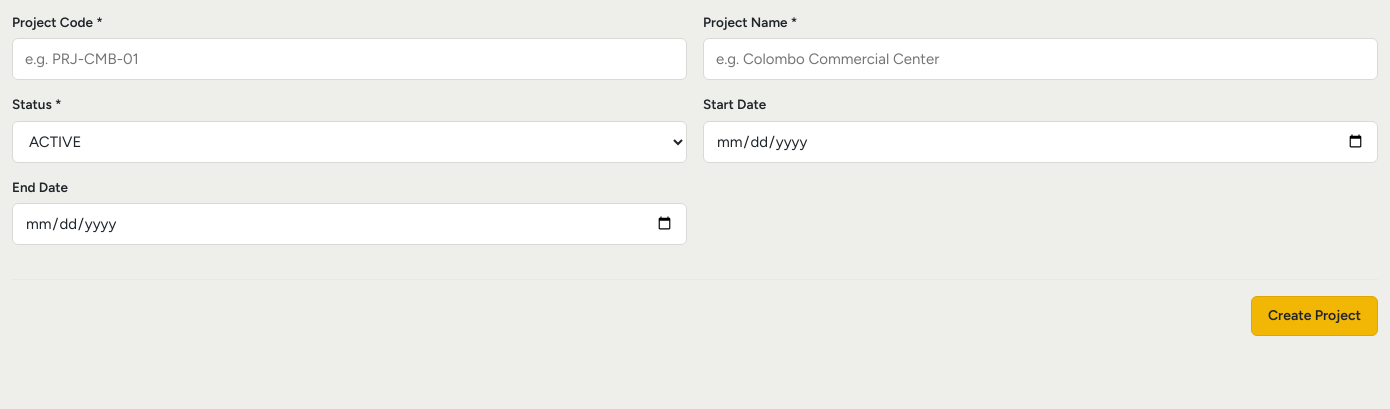
Test: ProjectForm (AESCS-44) › successfully creates a valid project through the API
The width and height of the screenshot is (1390, 409).
Type "PRJ-NEW-01" into the field labelled "Project Code *". click: (350, 59)
box: [12,38,687,80]
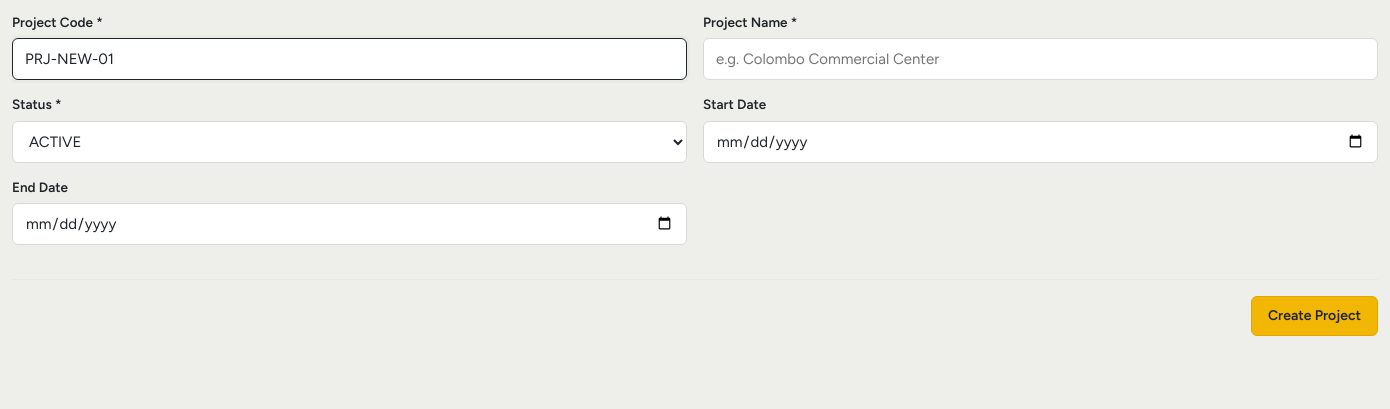
Type "New Harbor Facility" into the field labelled "Project Name *". click: (1040, 59)
box: [703,38,1378,80]
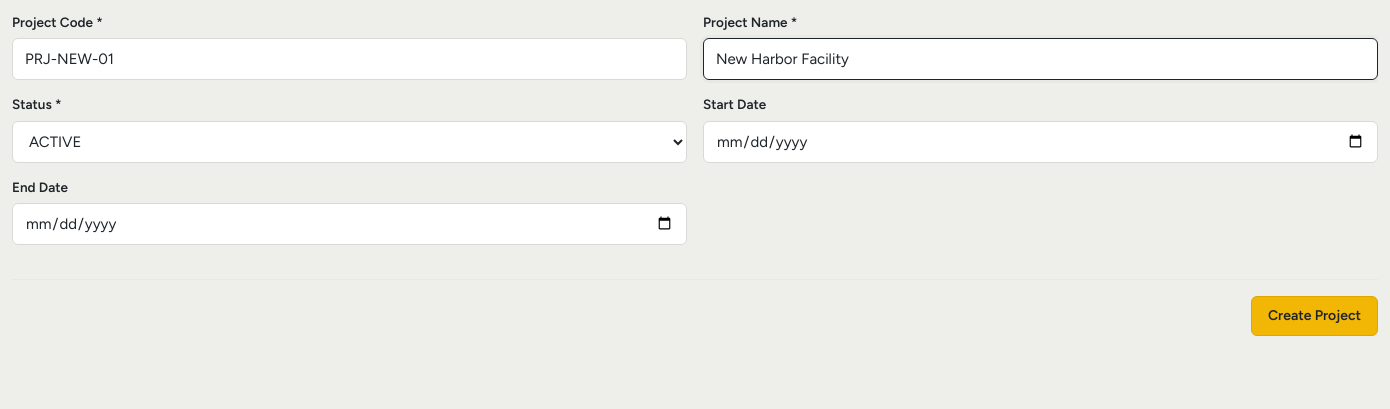
Type "2026-02-01" into the date field labelled "Start Date". click: (1040, 142)
box: [703,120,1378,162]
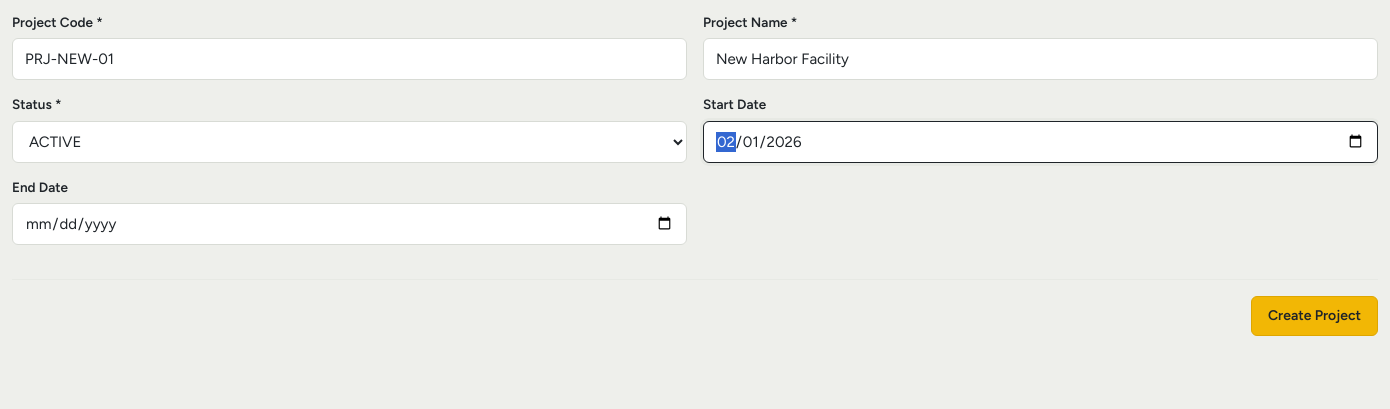
Type "2027-02-01" into the date field labelled "End Date". click: (350, 224)
box: [12,203,687,245]
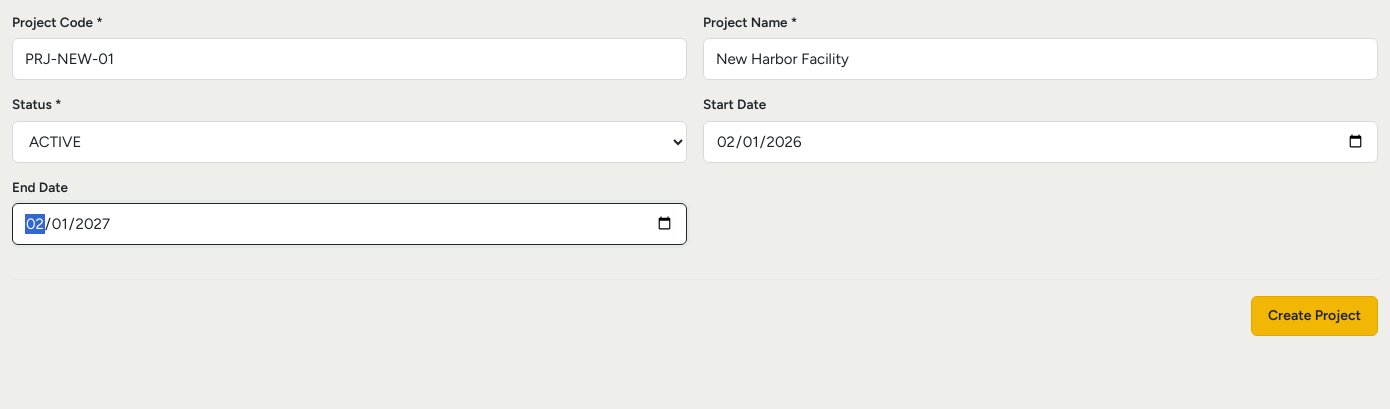
Click the button "Create Project". click: (1314, 316)
box: [1251,296,1378,336]
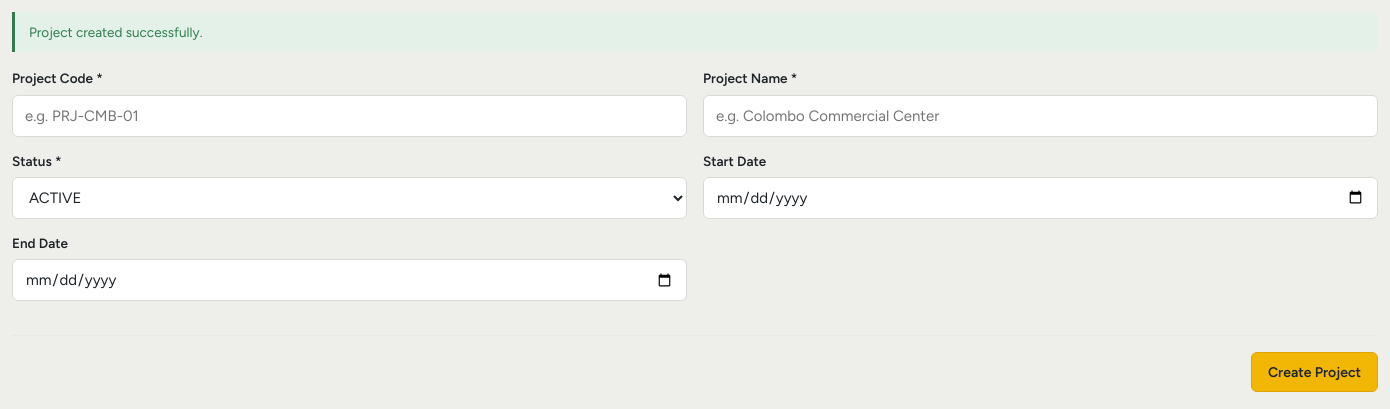
Expected: the text "Project created successfully." is shown, [12,12,1378,52]
